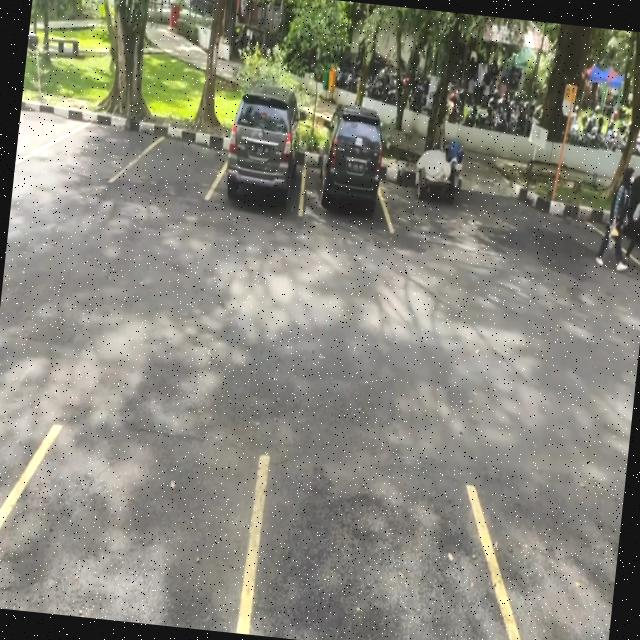empty: (0, 410, 266, 633), (241, 438, 527, 640), (130, 108, 222, 198), (44, 100, 138, 188)
occupied: (298, 114, 392, 226), (212, 113, 312, 216)
